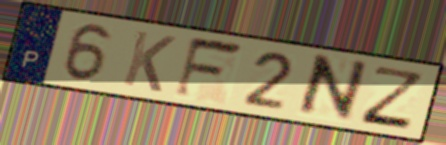2: (243, 49, 298, 111)
6: (61, 21, 114, 83)
F: (171, 34, 247, 101)
K: (119, 27, 179, 95)
N: (292, 53, 372, 125)
Z: (356, 64, 427, 132)
